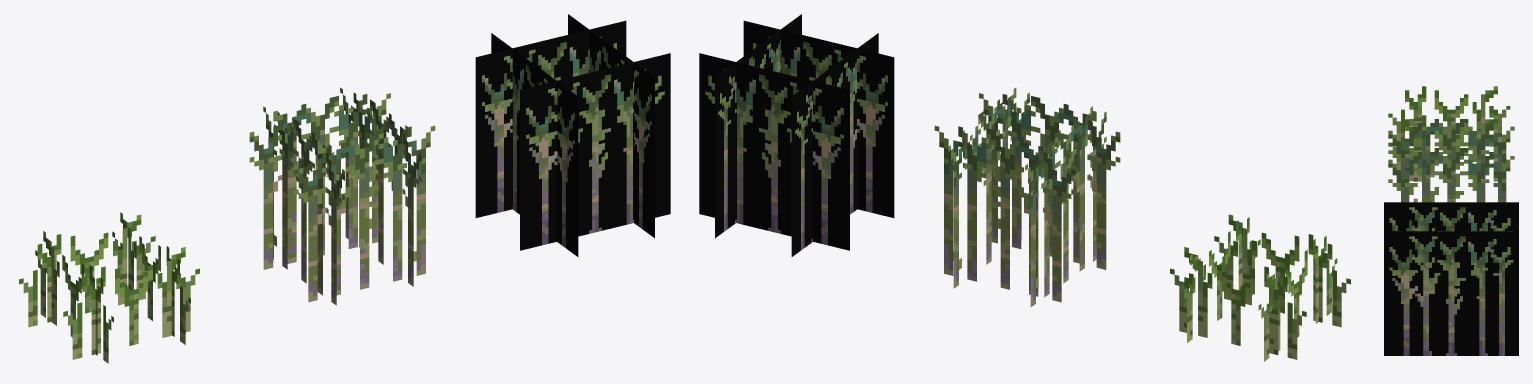
File: sugarcane.glb
3 views of the same model, side by side, from view 1: azimuth 30°, elevation 25°; view 2: azimuth 150°, elevation 25°; view 3: azimuth 270°, elevation 25° (orthographic). The views are drawn at different scales.
Visible parts, largest first — view 1: sugarcane-mature, sugarcane-growing, sugarcane-sprout; view 2: sugarcane-mature, sugarcane-growing, sugarcane-sprout; view 3: sugarcane-mature, sugarcane-growing, sugarcane-sprout.
Boxes of the visible parts, bbox=[...] form: sugarcane-mature: bbox=[475, 14, 670, 256]; sugarcane-growing: bbox=[249, 87, 435, 305]; sugarcane-sprout: bbox=[19, 212, 199, 363]; sugarcane-mature: bbox=[699, 14, 894, 256]; sugarcane-growing: bbox=[934, 87, 1120, 307]; sugarcane-sprout: bbox=[1170, 214, 1350, 361]; sugarcane-mature: bbox=[1384, 202, 1518, 355]; sugarcane-growing: bbox=[1388, 119, 1514, 202]; sugarcane-sprout: bbox=[1388, 86, 1510, 181].
Size of the model in its own units: 3.98 by 1 by 0.98.
3 materials, 3 textured.
